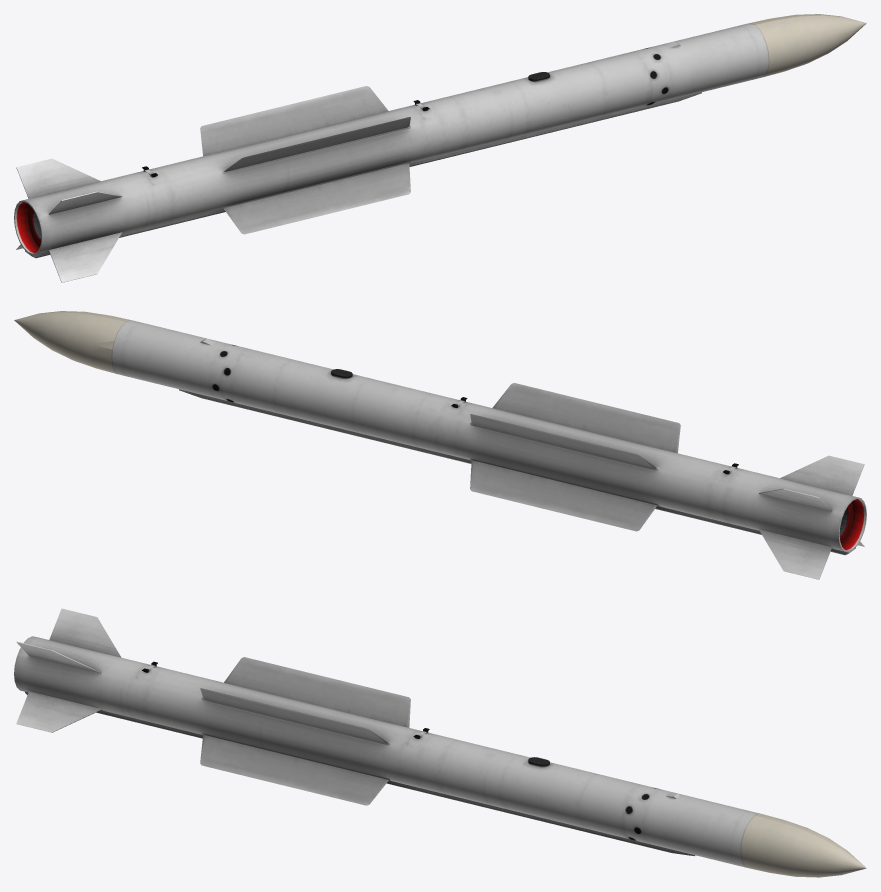
File: aam_1.glb
3 views of the same model, one above another, from view 1: azimuth 30°, elevation 25°; view 2: azimuth 150°, elevation 25°; view 3: azimuth 330°, elevation 25° (orthographic).
Visible parts, largest first — view 1: weapon; view 2: weapon; view 3: weapon.
Part boxes in pixels (x1=…): weapon: x1=14, y1=14, x2=866, y2=282; weapon: x1=14, y1=311, x2=866, y2=579; weapon: x1=14, y1=608, x2=866, y2=877.
Size of the model in its own units: 1 by 0.0942 by 0.0942.
1 material, 1 textured.
